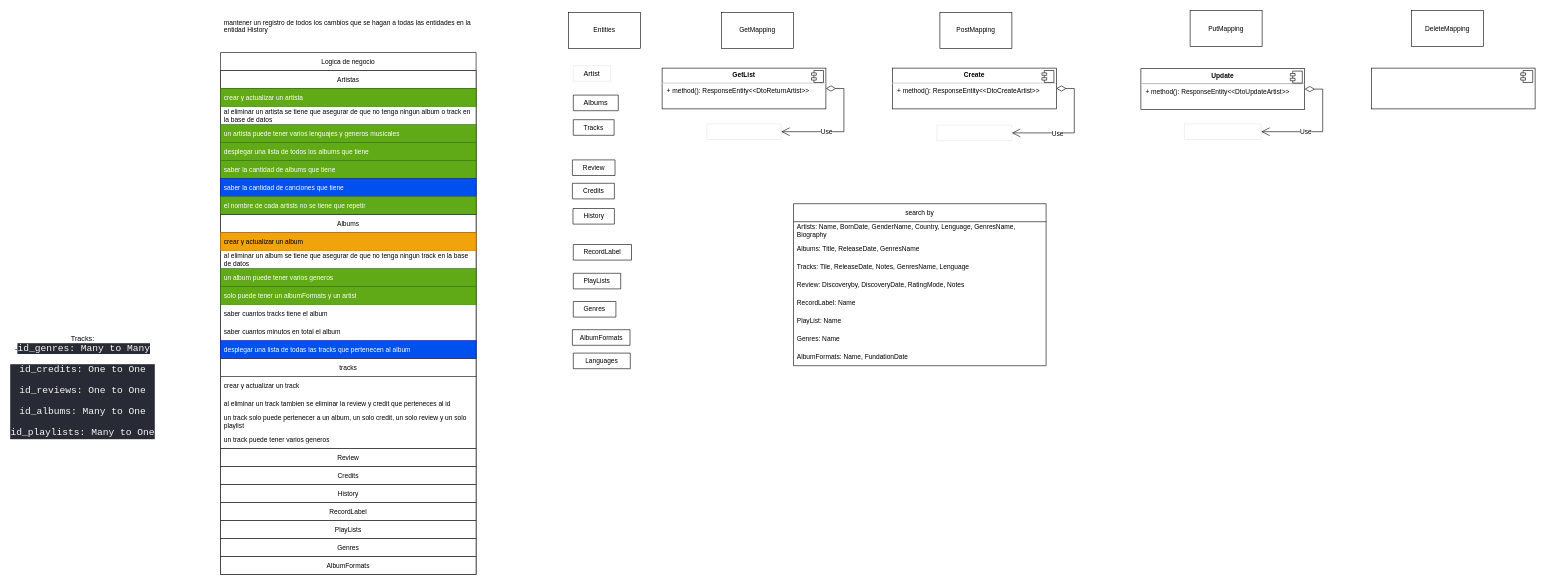
Some shapes in this 1546 by 585 pixel diagram are drawn without their labels. Here are the shapes that lost their labels. From the top down, the centre of each, then its label:
At point 1453,88: "Delete + method(): ResponseEntity<<HttpStatus>>".
At point 743,131: "DtoReturnArtist".
At point 974,132: "DtoCreateArtist".
At point 1222,131: "DtoUpdateArtist".
